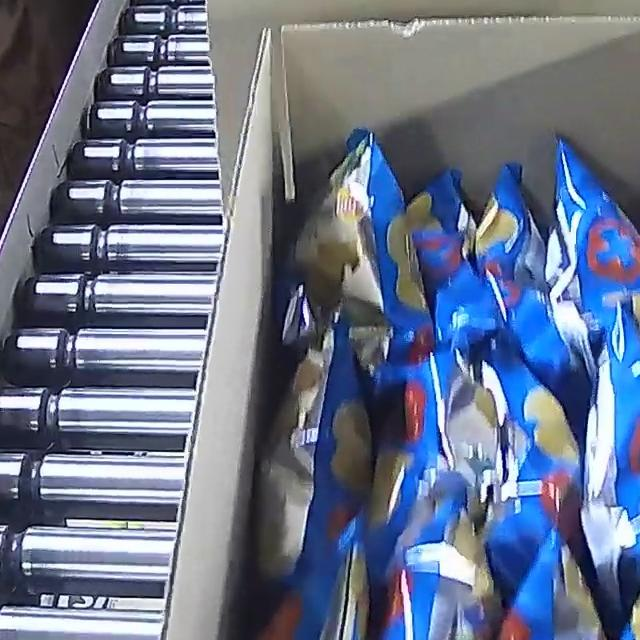paprika: (245, 124, 640, 640)
